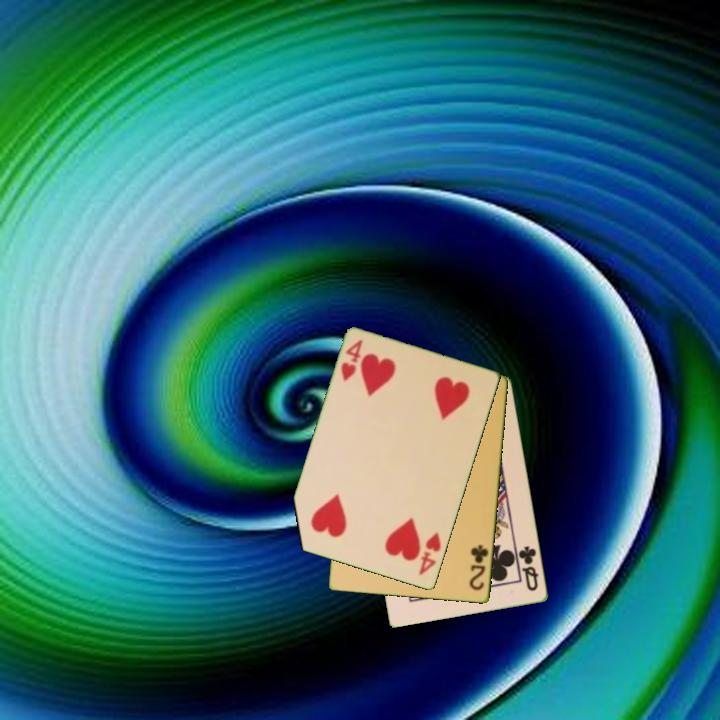2c: (466, 542, 491, 594)
4h: (416, 529, 444, 578), (338, 336, 366, 385)
Qc: (515, 543, 542, 594)
